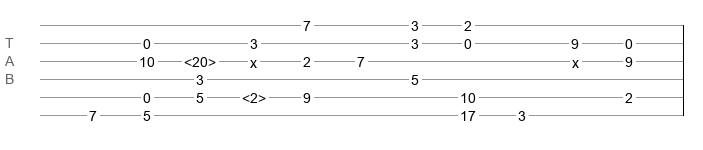0: (143, 36, 151, 46), (143, 90, 151, 100), (464, 36, 472, 46), (625, 36, 633, 46)
10: (139, 54, 155, 64), (460, 90, 476, 100)
17: (460, 108, 476, 118)
2: (303, 54, 311, 64), (464, 18, 472, 28), (625, 90, 633, 100)
3: (196, 72, 204, 82), (250, 36, 258, 46), (411, 36, 419, 46), (411, 18, 419, 28), (518, 108, 526, 118)
5: (143, 108, 151, 118), (196, 90, 204, 100), (411, 72, 419, 82)
7: (89, 108, 97, 118), (303, 18, 311, 28), (357, 54, 365, 64)
9: (303, 90, 311, 100), (571, 36, 579, 46), (625, 54, 633, 64)
harmonic: (184, 54, 216, 64), (242, 90, 266, 100)
x: (250, 55, 257, 63), (572, 55, 579, 63)
